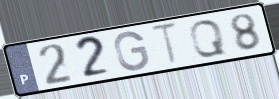2: (73, 34, 117, 83), (37, 43, 74, 88)
8: (228, 12, 263, 51)
G: (113, 29, 151, 72)
Q: (187, 18, 229, 59)
T: (148, 20, 180, 68)
